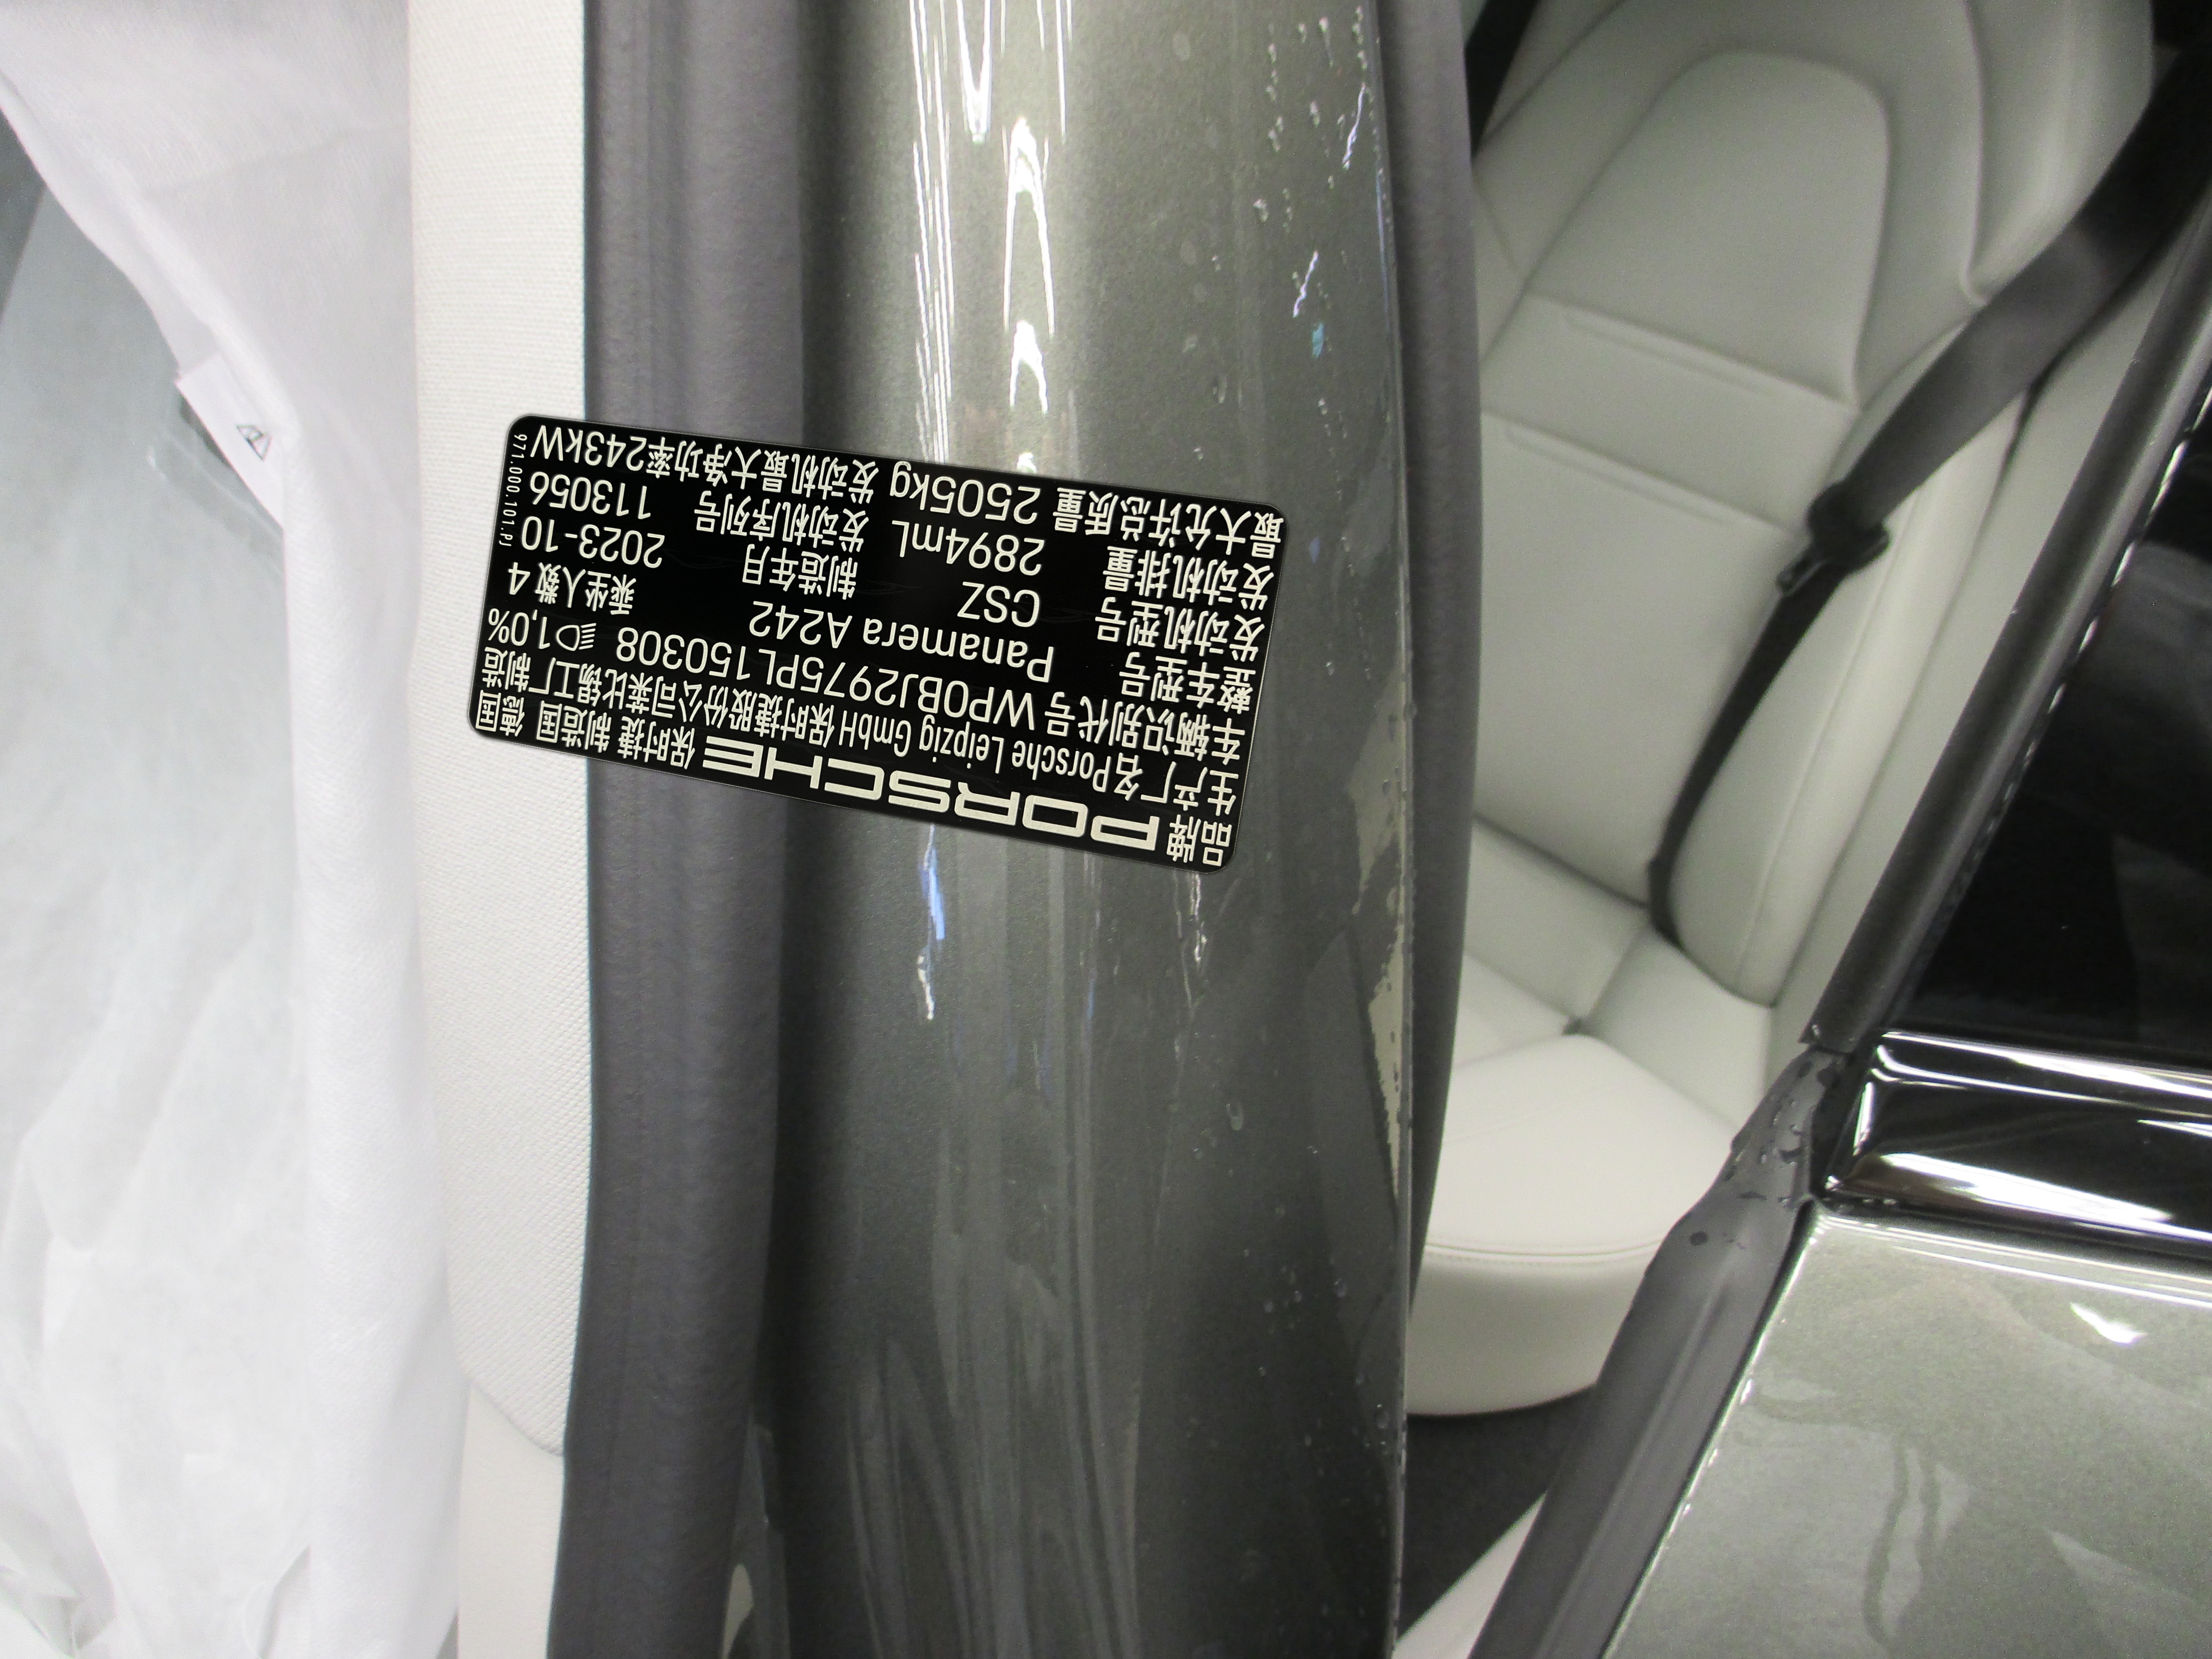Typlabel-China: (469, 415, 1287, 873)
